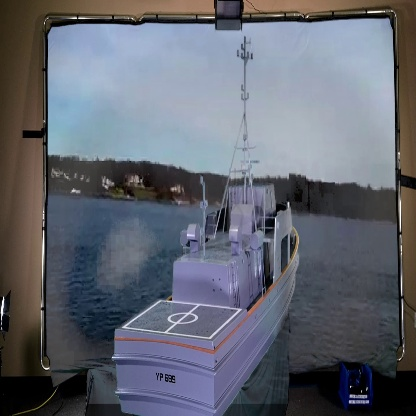YP689: (111, 41, 302, 416)
